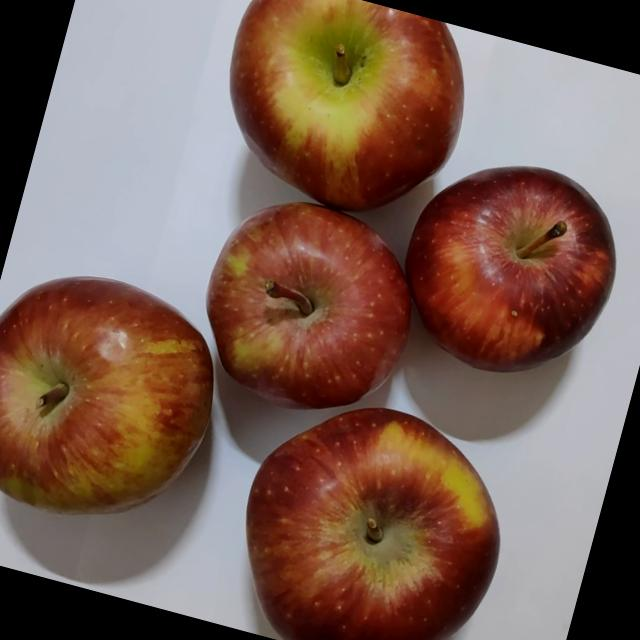apple: (208, 377, 532, 640), (0, 249, 248, 562), (188, 0, 494, 249), (168, 177, 444, 450), (371, 135, 640, 413)
